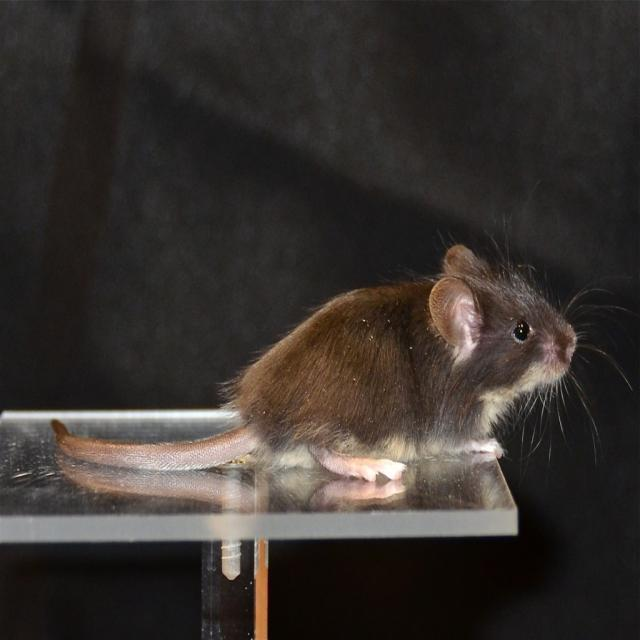rat: (52, 240, 583, 485)
